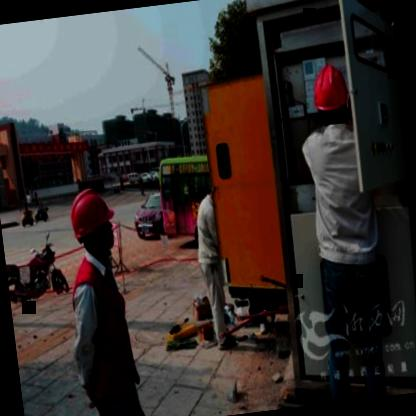helmet: (62, 178, 124, 268), (304, 57, 353, 134)
